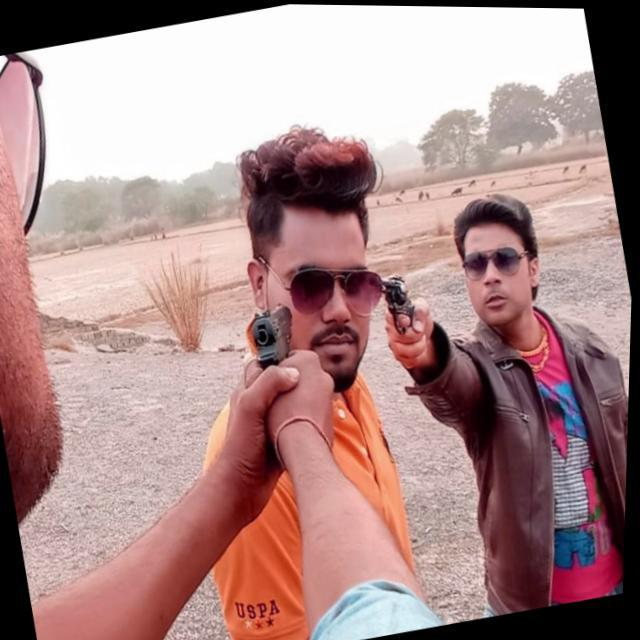weapon: (244, 298, 318, 422), (364, 262, 434, 356)
